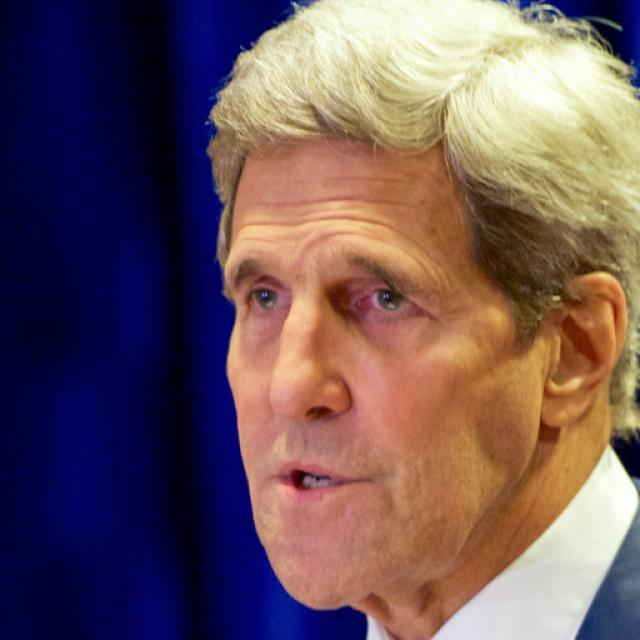sad: (220, 132, 539, 616)
